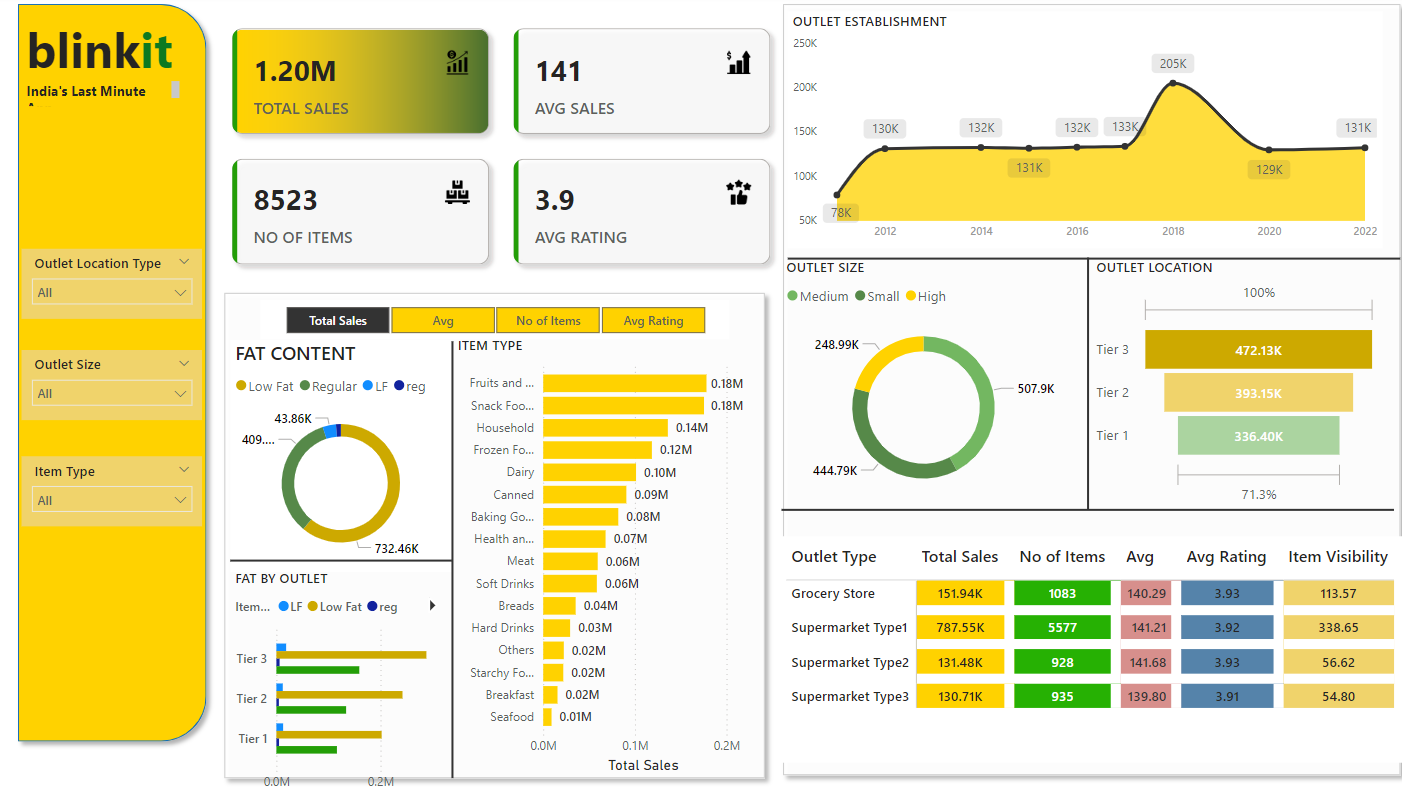

The dashboard page shown, as its layout file describes it:
{"tool":"powerbi","page":{"name":"Page 1","canvas":[1400,800],"ordinal":0},"visuals":[{"type":"shape","box":[10,0,205,750],"z":0},{"type":"textbox","box":[22.9,16.5,206,97.9],"z":1000},{"type":"textbox","box":[22.9,80.1,161.5,34.3],"z":2000},{"type":"cardVisual","fields":{"Data":["BlinkIT Grocery Data.Total Sales","BlinkIT Grocery Data.Avg","BlinkIT Grocery Data.No of Items","BlinkIT Grocery Data.Avg Rating"]},"box":[214.9,16.5,569.8,269.6],"z":3000},{"type":"shape","box":[214.9,286.2,554.5,499.8],"z":4000},{"type":"donutChart","title":"FAT CONTENT","fields":{"Y":["BlinkIT Grocery Data.Total Sales"],"Category":["BlinkIT Grocery Data.Item Fat Content"]},"box":[228.9,342.1,220,230.2],"z":5000},{"type":"slicer","fields":{"Values":["matrix.matrix"]},"box":[259.4,302.7,465.5,39],"z":6000},{"type":"clusteredBarChart","title":"FAT BY OUTLET","fields":{"Y":["BlinkIT Grocery Data.Total Sales"],"Category":["BlinkIT Grocery Data.Outlet Location Type"],"Series":["BlinkIT Grocery Data.Item Fat Content"]},"box":[228.9,569.8,220,230.2],"z":7000},{"type":"shape","box":[228.9,536.7,220,48.3],"z":8000},{"type":"shape","box":[436.2,343.4,26.7,433.7],"z":9000},{"type":"barChart","title":"ITEM TYPE","fields":{"Y":["BlinkIT Grocery Data.Total Sales"],"Category":["BlinkIT Grocery Data.Item Type"]},"box":[450.2,337,307.8,440],"z":10000},{"type":"shape","box":[769.4,0,630.8,783.4],"z":11000},{"type":"lineChart","title":"OUTLET ESTABLISHMENT","fields":{"Category":["BlinkIT Grocery Data.Outlet Establishment Year"],"Y":["BlinkIT Grocery Data.Total Sales"]},"box":[783.4,16.5,590.1,235.3],"z":12000},{"type":"donutChart","title":"OUTLET SIZE","fields":{"Y":["BlinkIT Grocery Data.Total Sales"],"Category":["BlinkIT Grocery Data.Outlet Size"]},"box":[777.1,260.7,282.3,250.5],"z":13000},{"type":"shape","box":[1068.3,260.7,25.4,250.5],"z":14000},{"type":"funnel","title":"OUTLET LOCATION","fields":{"Category":["BlinkIT Grocery Data.Outlet Location Type"],"Y":["Sum(BlinkIT Grocery Data.Sales)"]},"box":[1084.9,260.7,288.7,250.5],"z":15000},{"type":"shape","box":[783.4,241.6,607.9,39.4],"z":16000},{"type":"shape","box":[777.1,490.9,607.9,39.4],"z":17000},{"type":"pivotTable","fields":{"Rows":["BlinkIT Grocery Data.Outlet Type"],"Values":["BlinkIT Grocery Data.Total Sales","BlinkIT Grocery Data.No of Items","BlinkIT Grocery Data.Avg","BlinkIT Grocery Data.Avg Rating","Sum(BlinkIT Grocery Data.Item Visibility)"]},"box":[777.1,536.7,623.2,225.1],"z":18000},{"type":"slicer","fields":{"Values":["BlinkIT Grocery Data.Outlet Location Type"]},"box":[22.9,251.8,179.3,69.9],"z":18001},{"type":"slicer","fields":{"Values":["BlinkIT Grocery Data.Outlet Size"]},"box":[22.9,352.3,179.3,69.9],"z":18002},{"type":"slicer","fields":{"Values":["BlinkIT Grocery Data.Outlet Location Type"]},"box":[22.9,457.9,179.3,69.9],"z":18003}]}

Visuals, with their boxes in screenshot pixels (x1, y1, x2, y2), scaled from the page's 1400x800 canvas onto the 1402x788 screenshot:
shape: region(10, 0, 215, 739)
textbox: region(23, 16, 229, 113)
textbox: region(23, 79, 185, 113)
cardVisual - BlinkIT Grocery Data.Total Sales x BlinkIT Grocery Data.Avg: region(215, 16, 786, 282)
shape: region(215, 282, 770, 774)
"FAT CONTENT" donutChart: region(229, 337, 450, 564)
slicer - matrix.matrix: region(260, 298, 726, 337)
"FAT BY OUTLET" clusteredBarChart: region(229, 561, 450, 787)
shape: region(229, 529, 450, 576)
shape: region(437, 338, 464, 765)
"ITEM TYPE" barChart: region(451, 332, 759, 765)
shape: region(770, 0, 1401, 772)
"OUTLET ESTABLISHMENT" lineChart: region(785, 16, 1375, 248)
"OUTLET SIZE" donutChart: region(778, 257, 1061, 504)
shape: region(1070, 257, 1095, 504)
"OUTLET LOCATION" funnel: region(1086, 257, 1376, 504)
shape: region(785, 238, 1393, 277)
shape: region(778, 484, 1387, 522)
pivotTable - BlinkIT Grocery Data.Outlet Type x BlinkIT Grocery Data.Total Sales: region(778, 529, 1401, 750)
slicer - BlinkIT Grocery Data.Outlet Location Type: region(23, 248, 202, 317)
slicer - BlinkIT Grocery Data.Outlet Size: region(23, 347, 202, 416)
slicer - BlinkIT Grocery Data.Outlet Location Type: region(23, 451, 202, 520)
